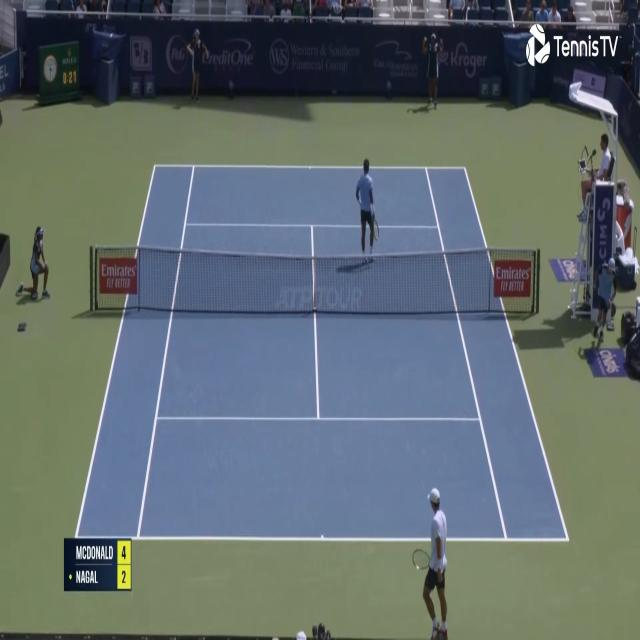tennis-player: (411, 486, 450, 638), (355, 154, 380, 261)
